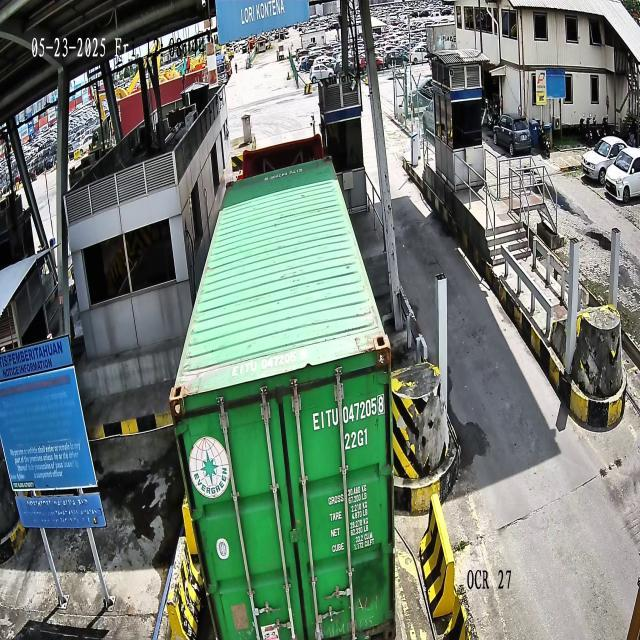ISO: (343, 428, 371, 456)
container_number: (313, 390, 383, 432)
